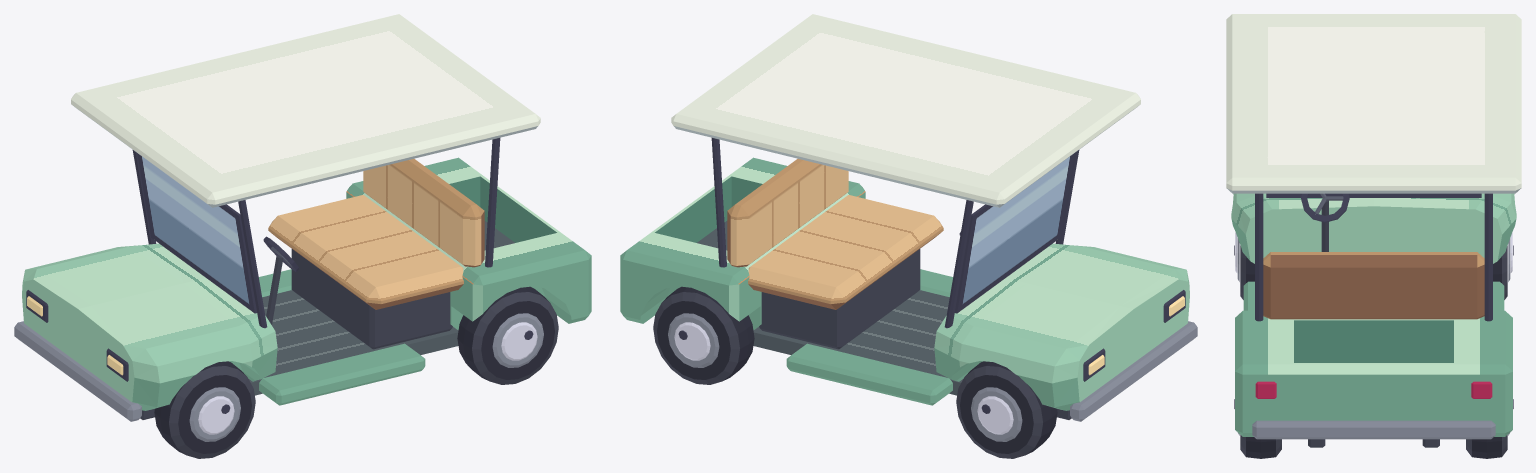
The model's file is golf-cart-v1.glb.
3 views of the same model, side by side, from view 1: azimuth 30°, elevation 25°; view 2: azimuth 150°, elevation 25°; view 3: azimuth 270°, elevation 25° (orthographic). The views are drawn at different scales.
Parts seen in each view (by area): view 1: Body_static, Wheel_RL_tire_hub, Wheel_FL_tire_hub; view 2: Body_static, Wheel_RR_tire_hub, Wheel_FR_tire_hub; view 3: Body_static, Wheel_RL_tire_hub, Wheel_RR_tire_hub, Wheel_FL_tire_hub, Wheel_FR_tire_hub.
Boxes of the visible parts, left/top/right/bottom form: Body_static: left=14, top=14, right=591, bottom=421; Wheel_RL_tire_hub: left=457, top=286, right=558, bottom=384; Wheel_FL_tire_hub: left=154, top=361, right=255, bottom=458; Body_static: left=620, top=14, right=1197, bottom=421; Wheel_RR_tire_hub: left=653, top=286, right=754, bottom=384; Wheel_FR_tire_hub: left=956, top=361, right=1057, bottom=458; Body_static: left=1226, top=14, right=1521, bottom=447; Wheel_RL_tire_hub: left=1234, top=399, right=1281, bottom=458; Wheel_RR_tire_hub: left=1466, top=399, right=1513, bottom=458; Wheel_FL_tire_hub: left=1234, top=232, right=1254, bottom=299; Wheel_FR_tire_hub: left=1493, top=232, right=1513, bottom=299.
Size of the model in its own units: 55.65 by 31.3 by 29.57.
1 material, 1 textured.
